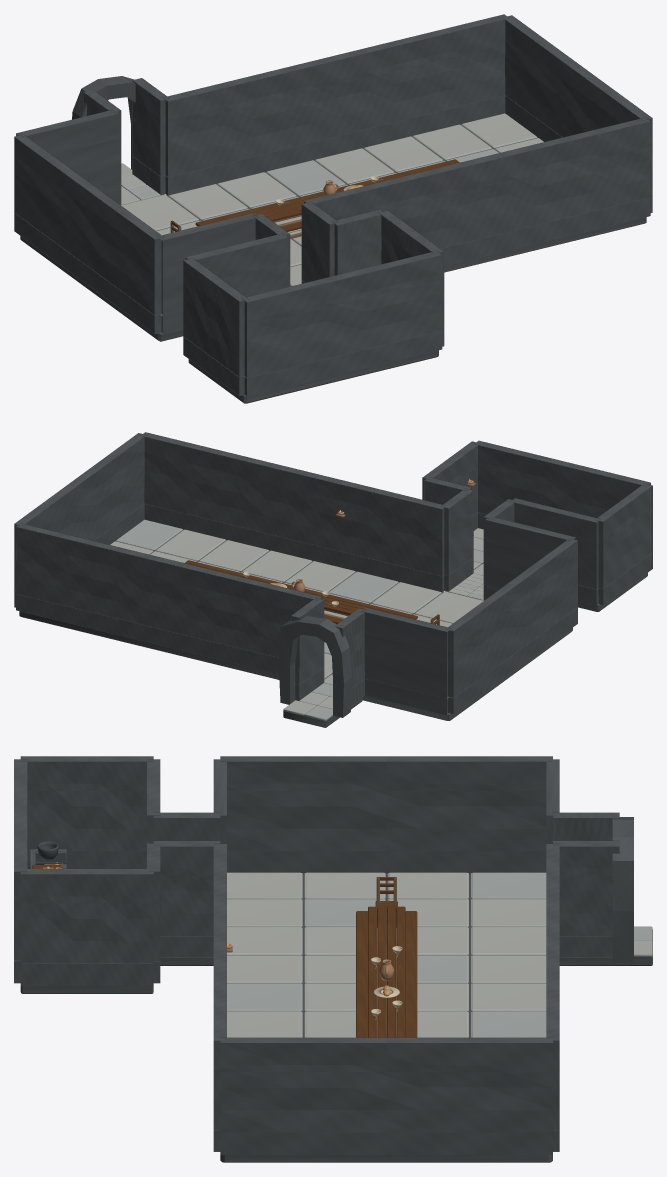
The model's file is retreat_expanded_a3.glb.
The picture shows the model from 3 angles, top to bottom: view 1: azimuth 30°, elevation 25°; view 2: azimuth 150°, elevation 25°; view 3: azimuth 270°, elevation 25°; orthographic projection. The views are drawn at different scales.
Visible parts, largest first — view 1: Dining_South_Upper, Dining_North_Upper, Floor_Dining, Kitchen_North_Upper, Expanded_Dining_West_Upper, Dining_East_Upper, Dining_South_Base, Kitchen_West_Upper, Dining_Access_South_Upper, Dining_North_Base, Expanded_Kitchen_South_West_Upper, Dining_Access_North_Upper (+15 smaller); view 2: Dining_North_Upper, Dining_South_Upper, Floor_Dining, Expanded_Dining_West_Upper, Kitchen_North_Upper, Dining_East_Upper, Dining_Access_South_Upper, Dining_North_Base, Dining_South_Base, Kitchen_West_Upper, Rock_Cut_Entrance, Dining_Access_North_Upper (+17 smaller); view 3: Floor_Dining, Dining_East_Upper, Expanded_Dining_West_Upper, Kitchen_East_Upper, Kitchen_West_Upper, Dining_East_Base, Expanded_Dining_West_Base, East_Entry_Upper, Hall_East_Upper, CANON_Long_Table, Dining_North_Upper, Dining_South_Upper (+17 smaller).
Part boxes in pixels (x1,y1,x2,y2): Dining_South_Upper: [163, 14, 509, 177]; Dining_North_Upper: [303, 117, 650, 248]; Floor_Dining: [20, 113, 646, 341]; Kitchen_North_Upper: [242, 251, 442, 378]; Expanded_Dining_West_Upper: [14, 134, 164, 315]; Dining_East_Upper: [502, 15, 652, 194]; Dining_South_Base: [165, 95, 505, 196]; Kitchen_West_Upper: [183, 258, 248, 377]; Dining_Access_South_Upper: [16, 109, 119, 192]; Dining_North_Base: [441, 197, 650, 266]; Expanded_Kitchen_South_West_Upper: [185, 233, 288, 297]; Dining_Access_North_Upper: [157, 212, 259, 316]; Dining_North_Upper: [140, 432, 445, 575]; Dining_South_Upper: [16, 523, 322, 657]; Floor_Dining: [19, 519, 572, 720]; Expanded_Dining_West_Upper: [445, 538, 577, 697]; Kitchen_North_Upper: [474, 440, 650, 517]; Dining_East_Upper: [14, 433, 146, 591]; Dining_Access_South_Upper: [361, 607, 451, 698]; Dining_North_Base: [144, 504, 444, 592]; Dining_South_Base: [16, 594, 279, 674]; Kitchen_West_Upper: [595, 483, 652, 588]; Rock_Cut_Entrance: [278, 616, 351, 717]; Dining_Access_North_Upper: [485, 516, 576, 589]; Floor_Dining: [220, 872, 552, 1162]; Dining_East_Upper: [220, 1037, 552, 1132]; Expanded_Dining_West_Upper: [220, 756, 552, 851]; Kitchen_East_Upper: [20, 869, 153, 963]; Kitchen_West_Upper: [20, 756, 153, 851]; Dining_East_Base: [220, 1132, 552, 1154]; Expanded_Dining_West_Base: [227, 851, 546, 873]; East_Entry_Upper: [553, 840, 619, 935]; Hall_East_Upper: [153, 840, 220, 935]; CANON_Long_Table: [368, 906, 405, 1037]; Dining_North_Upper: [213, 843, 226, 1129]; Dining_South_Upper: [546, 843, 559, 1129].
Bounding box in the file's own units: 15.3 × 3.17 × 14.4.
Materials: 12 (2 with a texture image).
